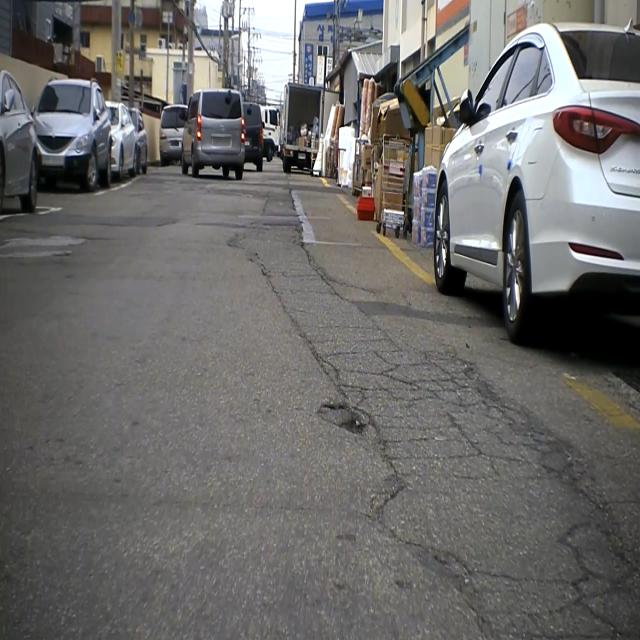Pothole: (314, 397, 387, 451)
